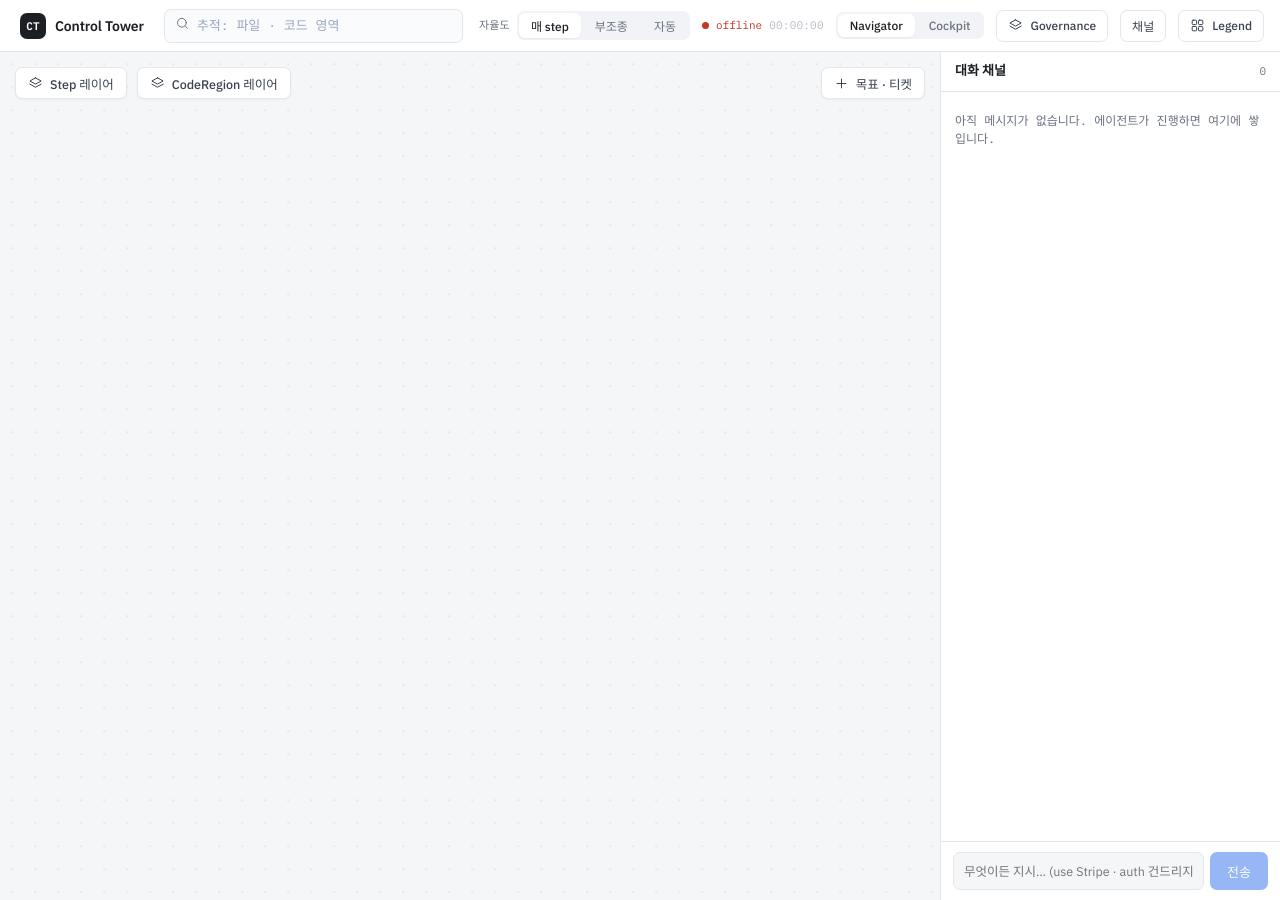
the Control Tower brand returns from a project to the home
This screenshot has width=1280, height=900.
Step 1. Click the text "Control Tower" → {"x": 99, "y": 26}, box [55,16,144,34]
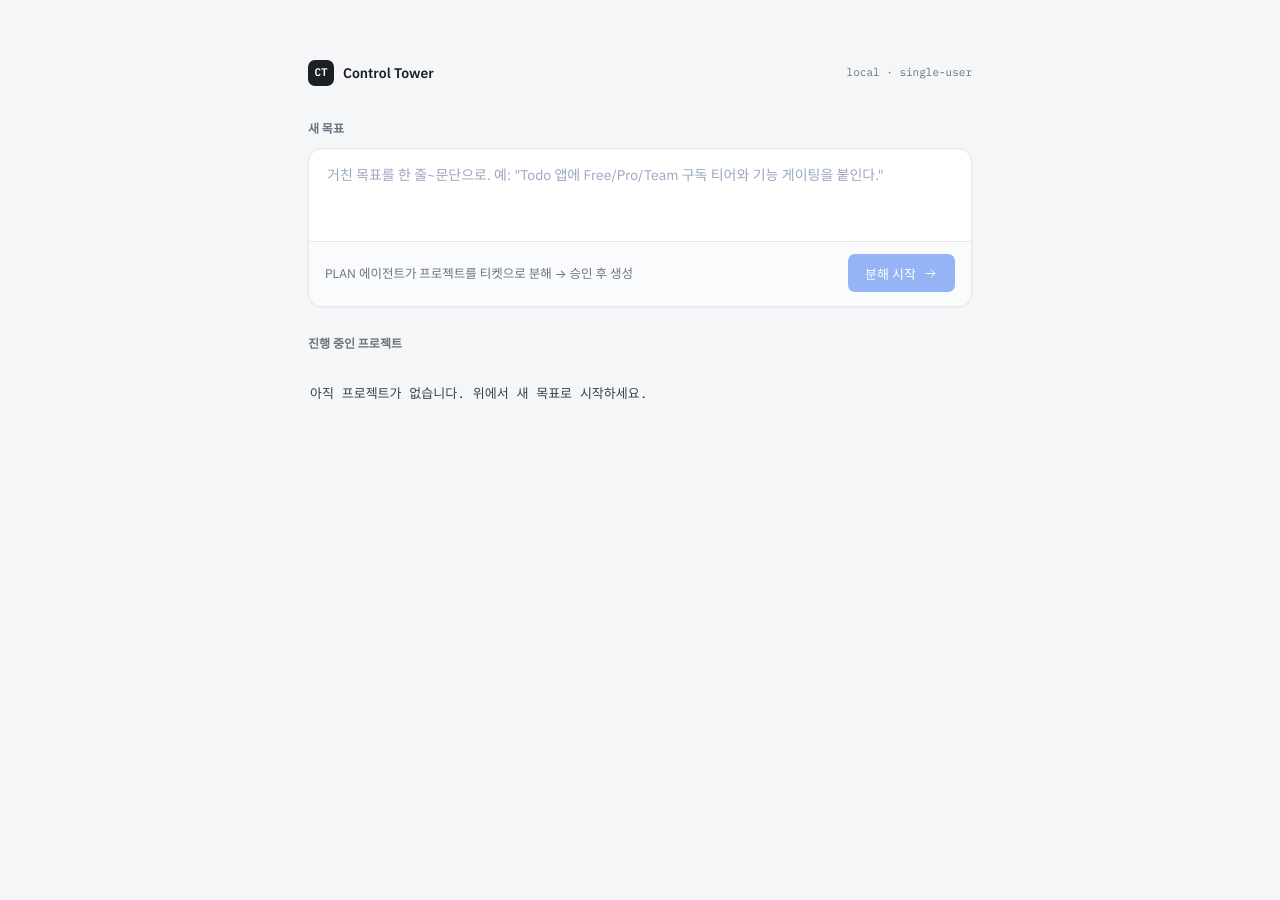
Now the heading "진행 중인 프로젝트" is shown, box [308,336,402,351]
